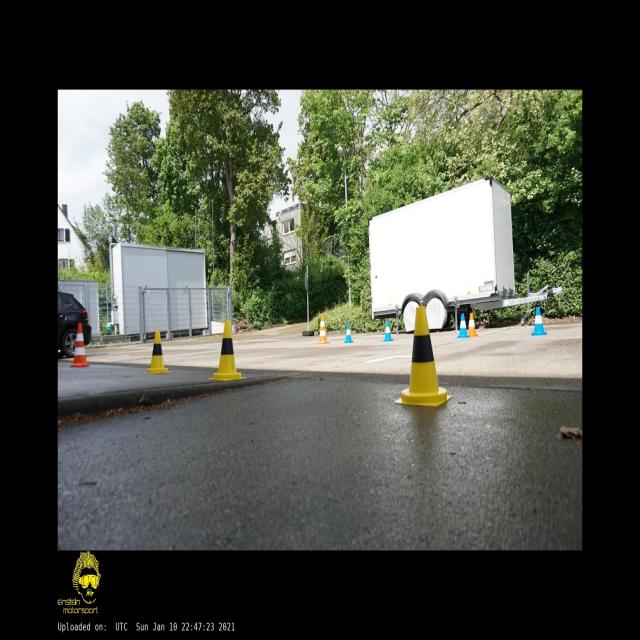blue_cone: (531, 306, 547, 336), (458, 313, 470, 338), (343, 323, 354, 343), (383, 320, 393, 341)
large_orange_cone: (70, 322, 90, 368), (316, 314, 330, 344)
orange_cone: (468, 312, 478, 337)
yellow_cone: (394, 306, 452, 406), (208, 320, 247, 381), (144, 331, 171, 374)
